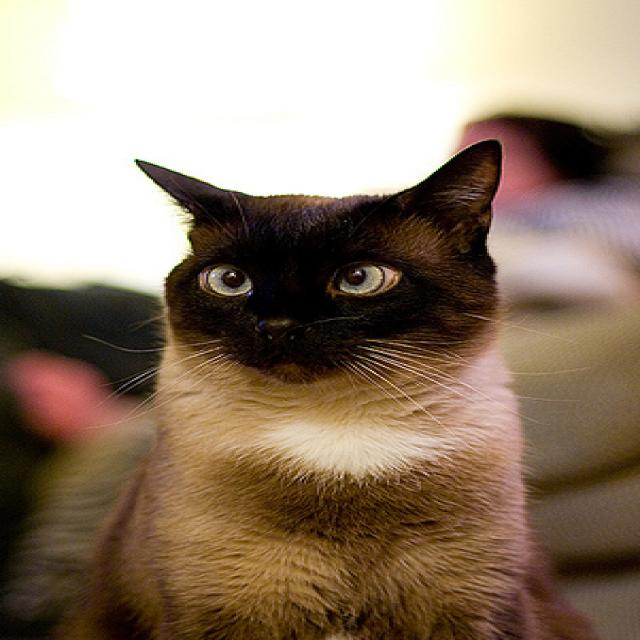Siamese: (32, 132, 612, 640)
